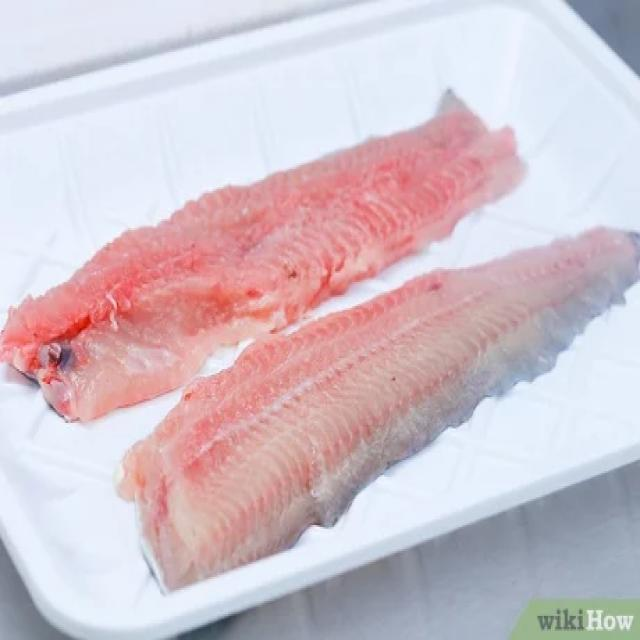Catfish: (109, 228, 640, 587), (0, 75, 522, 423)
